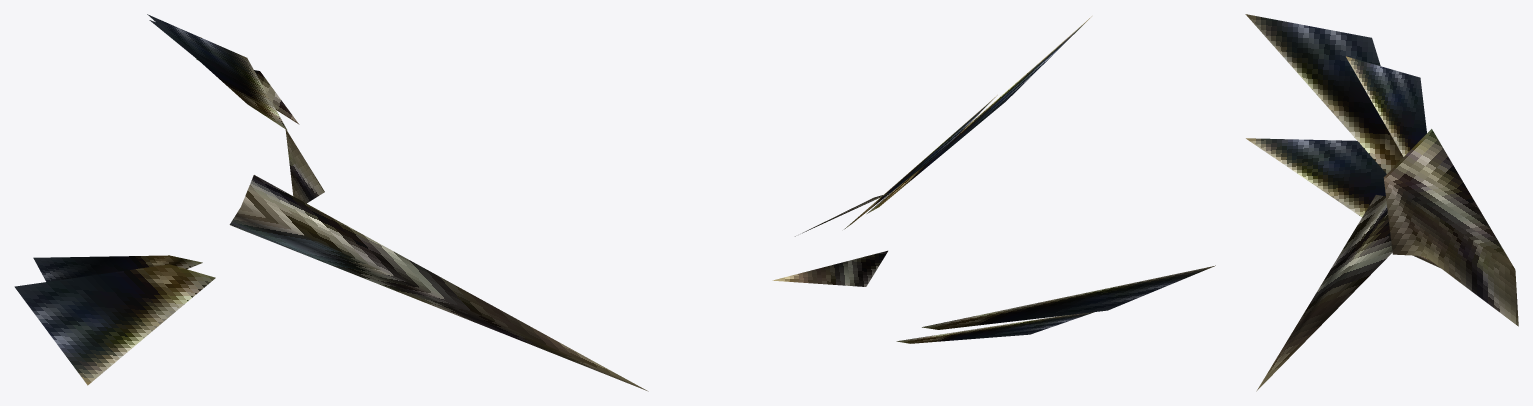
The model's file is DarkHorseHorn.glb.
3 renders of one model, left to right at view 1: azimuth 30°, elevation 25°; view 2: azimuth 150°, elevation 25°; view 3: azimuth 270°, elevation 25°, orthographic. The views are drawn at different scales.
Parts seen in each view (by area): view 1: model_DarkHorseHorn; view 2: model_DarkHorseHorn; view 3: model_DarkHorseHorn.
Part boxes in pixels (x1=…): model_DarkHorseHorn: x1=14, y1=14, x2=648, y2=391; model_DarkHorseHorn: x1=772, y1=16, x2=1215, y2=343; model_DarkHorseHorn: x1=1245, y1=14, x2=1518, y2=391.
Size of the model in its own units: 0.8778 by 0.6483 by 0.6188.
Materials: 2 (2 with a texture image).
